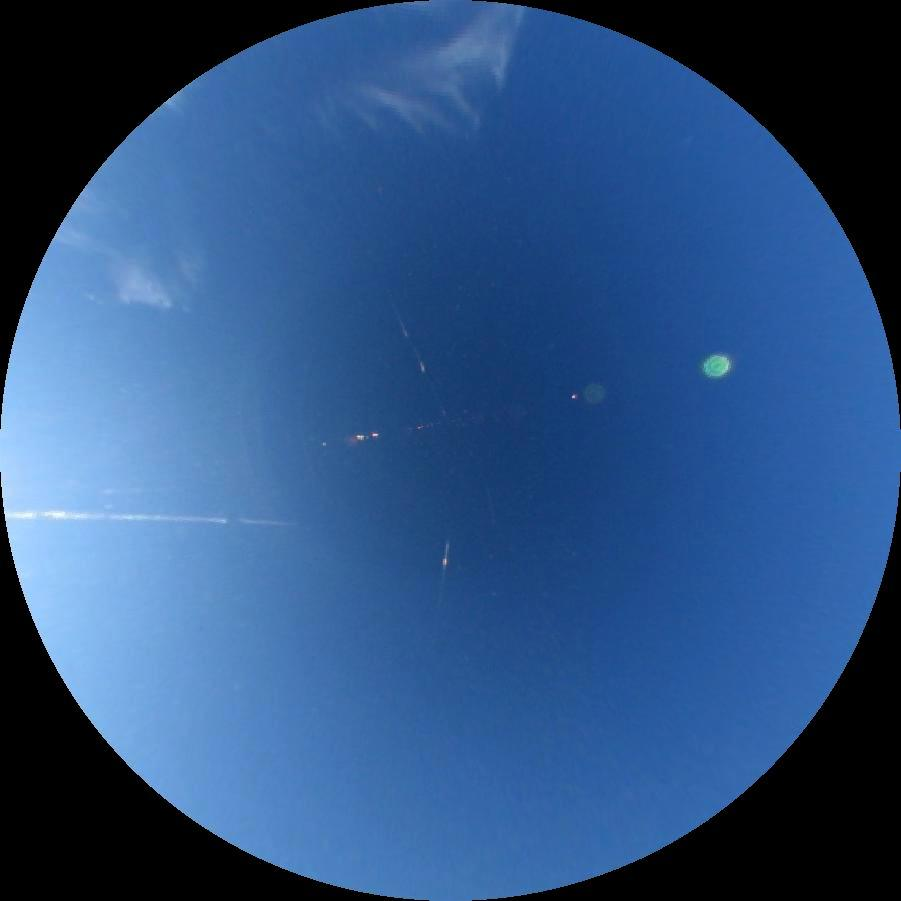parasite: (391, 302, 451, 419), (6, 508, 299, 527), (438, 543, 450, 599)
